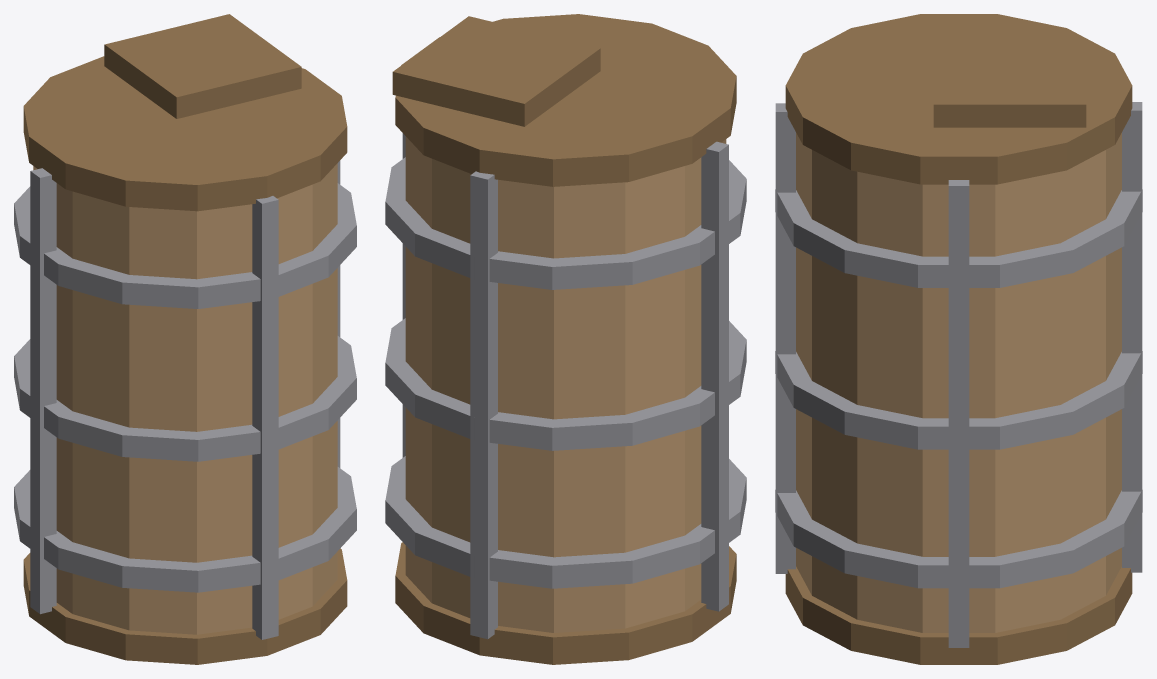
Rendered from barrel.glb.
3 views of the same model, side by side, from view 1: azimuth 30°, elevation 25°; view 2: azimuth 150°, elevation 25°; view 3: azimuth 270°, elevation 25° (orthographic). The views are drawn at different scales.
Parts seen in each view (by area): view 1: body, top, lid_loose, hoop.001, hoop, hoop_vert.003, hoop.002, hoop_vert.002, bot, hoop_vert; view 2: body, top, lid_loose, hoop.001, hoop.002, hoop, hoop_vert.001, hoop_vert.002, bot, hoop_vert; view 3: body, top, lid_loose, hoop.002, hoop, hoop.001, bot, hoop_vert, hoop_vert.003, hoop_vert.001.
Boxes of the visible parts, x1=… form: body: x1=33, y1=163, x2=337, y2=634; top: x1=23, y1=56, x2=347, y2=211; lid_loose: x1=104, y1=14, x2=301, y2=118; hoop.001: x1=14, y1=336, x2=356, y2=461; hoop: x1=14, y1=467, x2=356, y2=592; hoop_vert.003: x1=252, y1=196, x2=278, y2=639; hoop.002: x1=14, y1=183, x2=356, y2=308; hoop_vert.002: x1=30, y1=168, x2=56, y2=614; bot: x1=23, y1=548, x2=347, y2=664; hoop_vert: x1=337, y1=160, x2=340, y2=467; body: x1=405, y1=136, x2=726, y2=632; top: x1=395, y1=14, x2=736, y2=186; lid_loose: x1=392, y1=16, x2=600, y2=126; hoop.001: x1=385, y1=318, x2=746, y2=450; hoop.002: x1=385, y1=157, x2=746, y2=289; hoop: x1=385, y1=456, x2=746, y2=588; hoop_vert.001: x1=470, y1=171, x2=497, y2=639; hoop_vert.002: x1=701, y1=141, x2=728, y2=611; bot: x1=395, y1=542, x2=736, y2=664; hoop_vert: x1=402, y1=133, x2=405, y2=457; body: x1=796, y1=133, x2=1121, y2=632; top: x1=785, y1=14, x2=1132, y2=184; lid_loose: x1=933, y1=40, x2=1086, y2=127; hoop.002: x1=775, y1=189, x2=1142, y2=287; hoop: x1=775, y1=490, x2=1142, y2=588; hoop.001: x1=775, y1=351, x2=1142, y2=449; bot: x1=785, y1=566, x2=1132, y2=664; hoop_vert: x1=948, y1=180, x2=969, y2=647; hoop_vert.003: x1=775, y1=103, x2=795, y2=573; hoop_vert.001: x1=1122, y1=102, x2=1142, y2=572.
Bounding box in the file's own units: 0.72 × 1.18 × 0.72.
